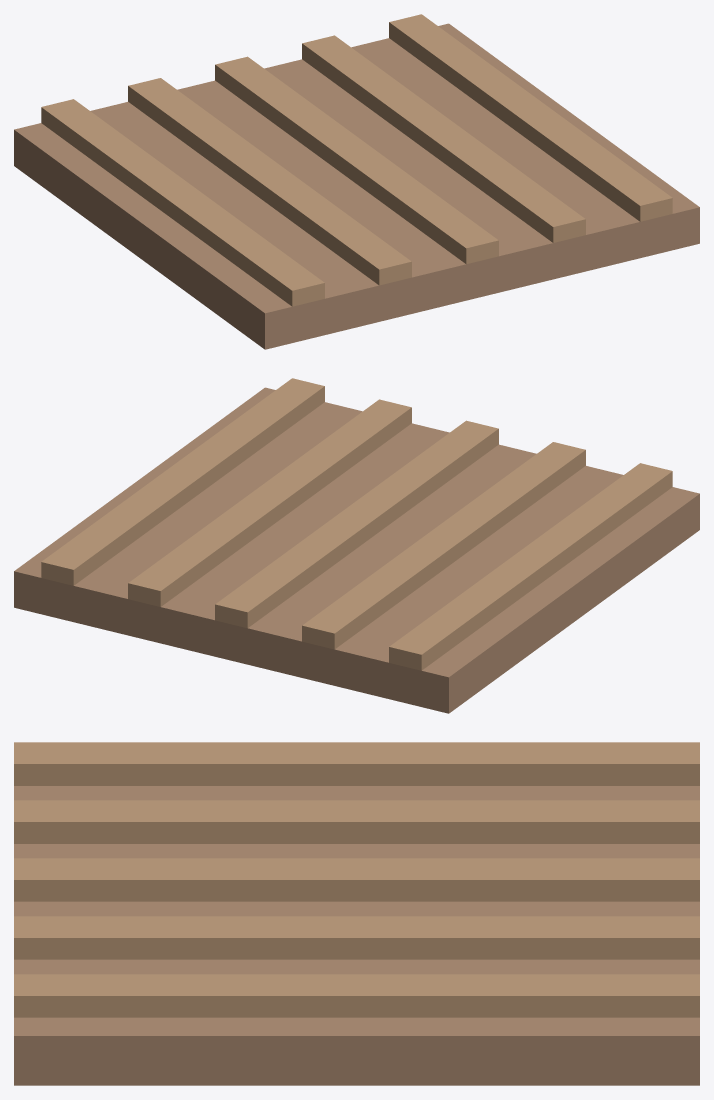
The model's file is fertile.glb.
3 views of the same model, one above another, from view 1: azimuth 30°, elevation 25°; view 2: azimuth 150°, elevation 25°; view 3: azimuth 270°, elevation 25° (orthographic). The views are drawn at different scales.
Visible parts, largest first — view 1: fertile_ground, ploughed_row_4, ploughed_row_0, ploughed_row_1, ploughed_row_2, ploughed_row_3; view 2: fertile_ground, ploughed_row_4, ploughed_row_0, ploughed_row_1, ploughed_row_2, ploughed_row_3; view 3: fertile_ground, ploughed_row_0, ploughed_row_1, ploughed_row_2, ploughed_row_3, ploughed_row_4.
Part boxes in pixels (box(x1,y1,x2,y2)): fertile_ground: box(14, 23, 699, 349); ploughed_row_4: box(389, 14, 672, 221); ploughed_row_0: box(41, 99, 324, 306); ploughed_row_1: box(128, 78, 411, 285); ploughed_row_2: box(215, 56, 498, 264); ploughed_row_3: box(302, 35, 585, 242); fertile_ground: box(14, 387, 699, 713); ploughed_row_4: box(41, 378, 324, 585); ploughed_row_0: box(389, 463, 672, 670); ploughed_row_1: box(302, 442, 585, 649); ploughed_row_2: box(215, 420, 498, 628); ploughed_row_3: box(128, 399, 411, 606); fertile_ground: box(14, 786, 699, 1085); ploughed_row_0: box(14, 742, 699, 785); ploughed_row_1: box(14, 800, 699, 843); ploughed_row_2: box(14, 858, 699, 901); ploughed_row_3: box(14, 916, 699, 959); ploughed_row_4: box(14, 974, 699, 1017).
Bounding box in the file's own units: 1 × 0.115 × 1.
